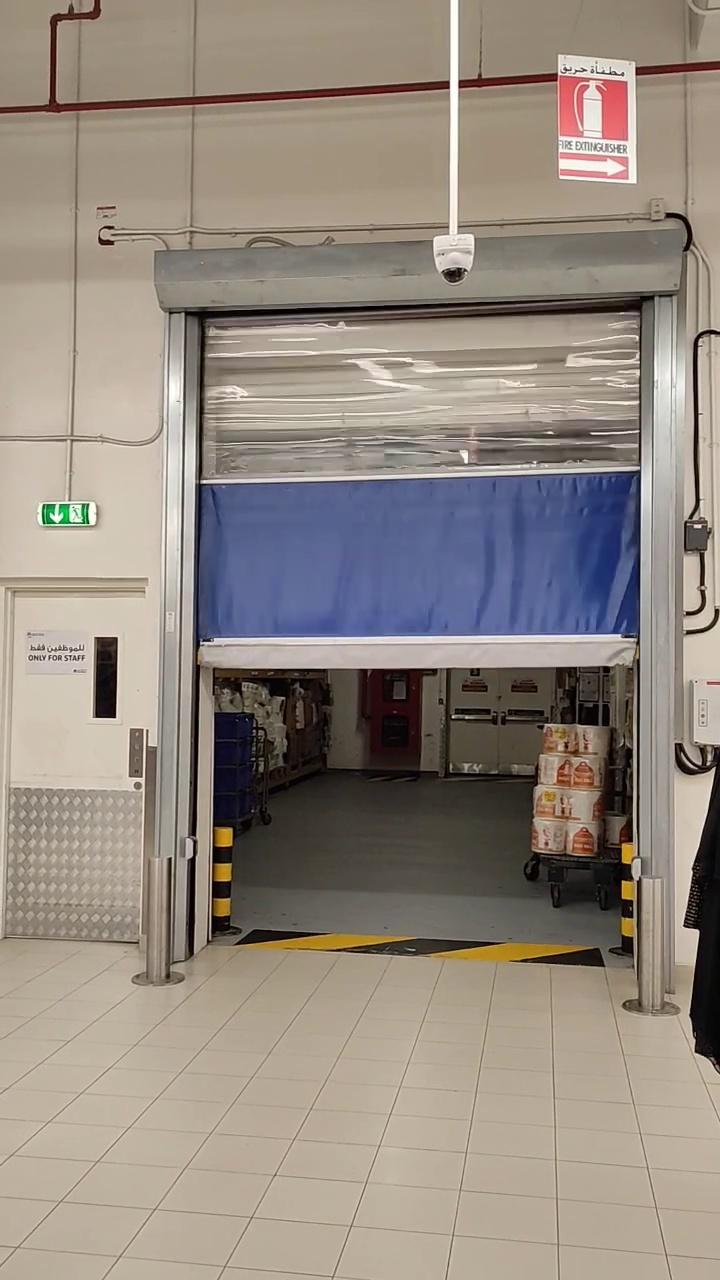Strip: (230, 918, 603, 977)
